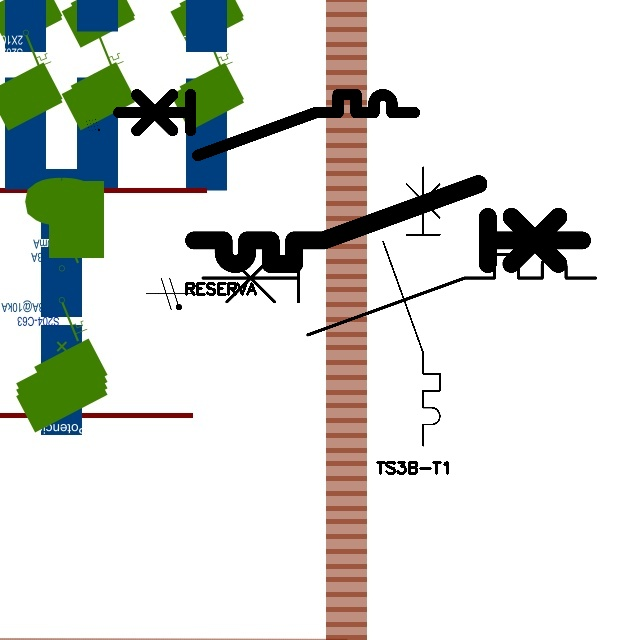interruptor_termomagnetico: (192, 244, 605, 345), (184, 174, 592, 274), (111, 87, 422, 163), (376, 160, 447, 453)
